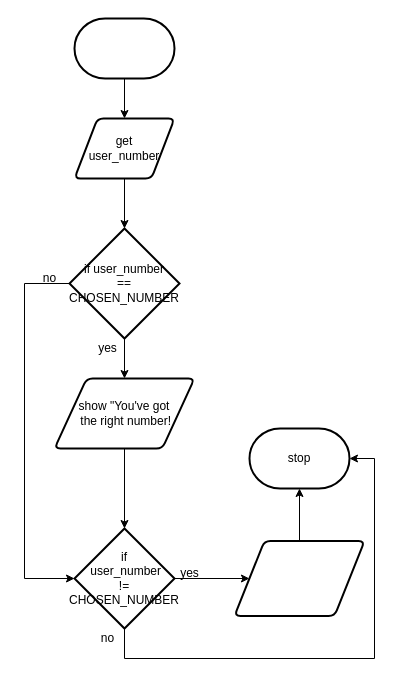
This 400x684 diagram has some shape labels left out. The centre of each missing label's shape, as x and y in pixels:
show "That's the wrong number": [299,578]
start: [124,48]
